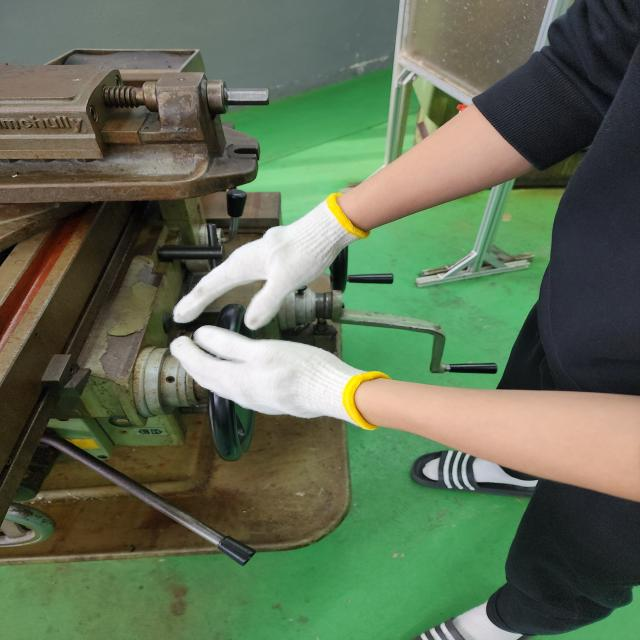Boots: (171, 190, 368, 317), (167, 326, 380, 430)
